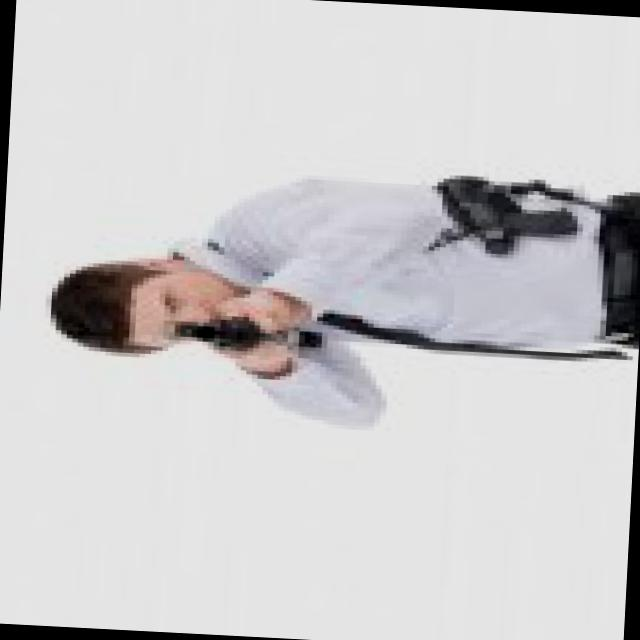handgun: (411, 172, 568, 275)
